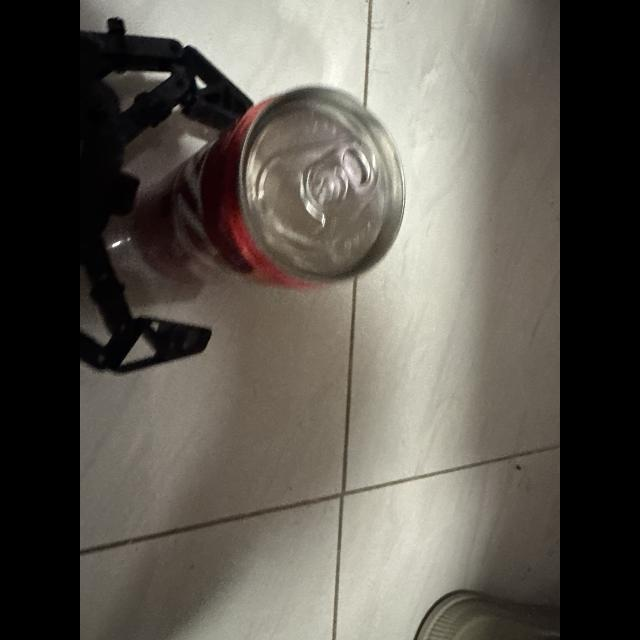Cola: (124, 75, 416, 305)
